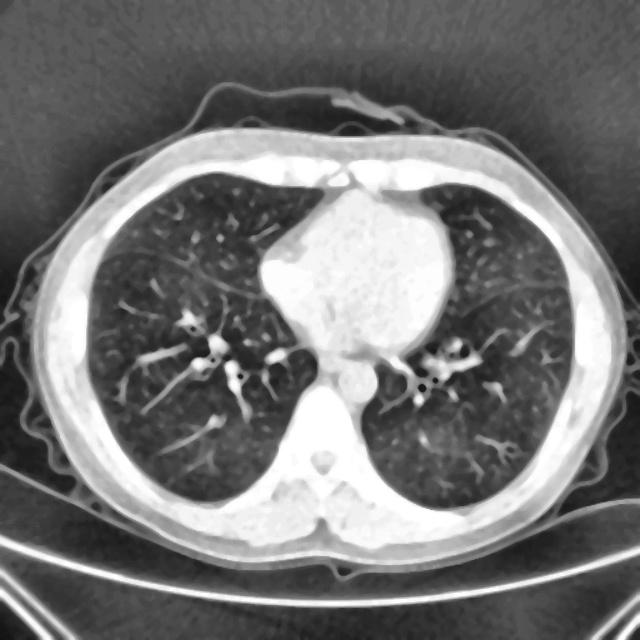covid: (5, 88, 637, 579)
